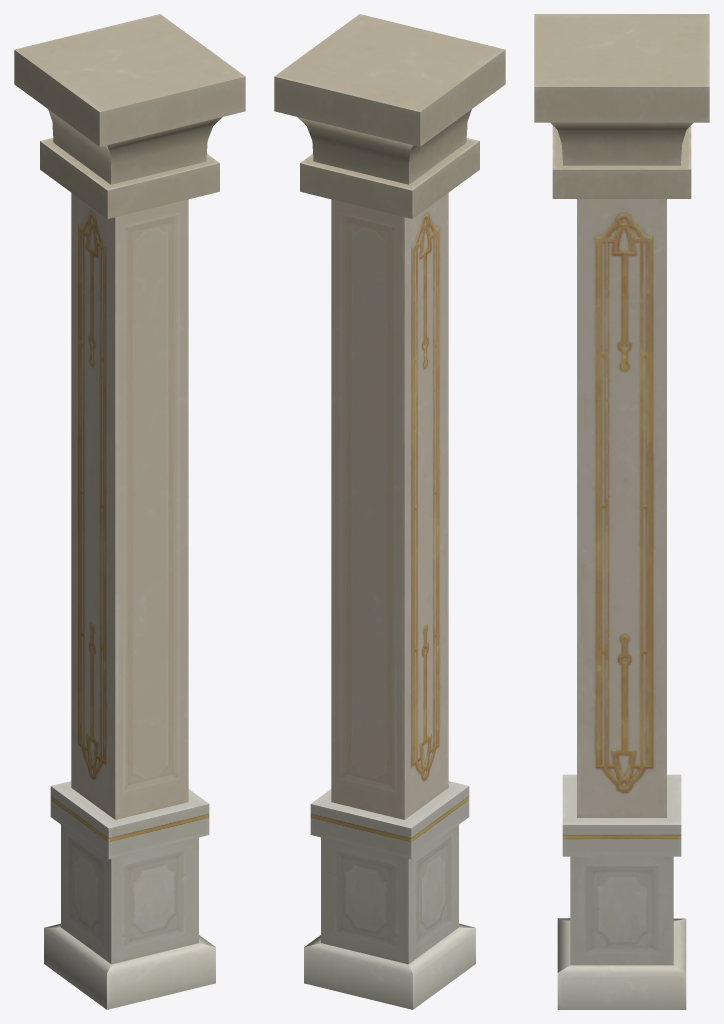
The model's file is Homeworld_Interior_Fd_Room_Pillar_01_Vo.fbx.
3 renders of one model, left to right at view 1: azimuth 30°, elevation 25°; view 2: azimuth 150°, elevation 25°; view 3: azimuth 270°, elevation 25°, orthographic. The views are drawn at different scales.
Visible parts, largest first — view 1: Homeworld_Interior_Fd_Room_Pillar_01_Vo; view 2: Homeworld_Interior_Fd_Room_Pillar_01_Vo; view 3: Homeworld_Interior_Fd_Room_Pillar_01_Vo.
Boxes of the visible parts, left/top/right/bottom form: Homeworld_Interior_Fd_Room_Pillar_01_Vo: left=14, top=14, right=245, bottom=1009; Homeworld_Interior_Fd_Room_Pillar_01_Vo: left=274, top=14, right=505, bottom=1009; Homeworld_Interior_Fd_Room_Pillar_01_Vo: left=534, top=14, right=709, bottom=1009.
Bounding box in the file's own units: 0.8408 × 5.01 × 0.8525.
